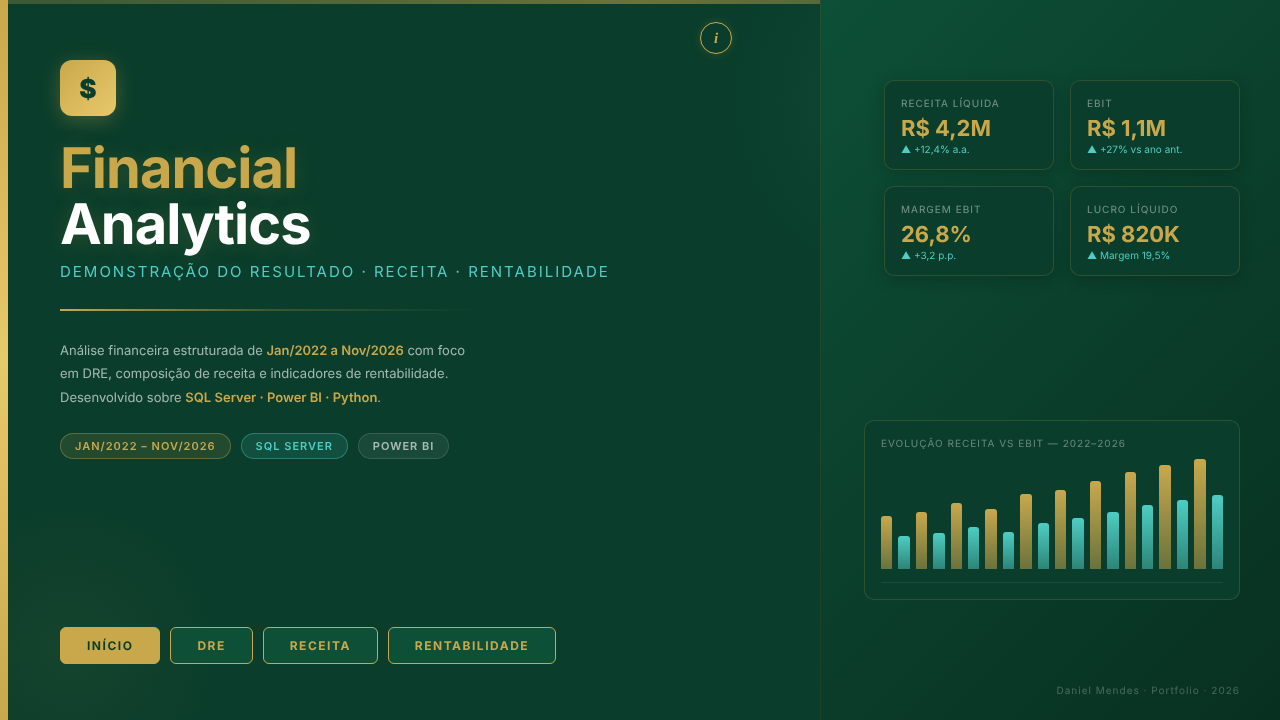

This screenshot's page, from the dashboard's own definition file:
{"tool":"powerbi","page":{"name":"Início","canvas":[1920,1080],"ordinal":0},"visuals":[{"type":"actionButton","box":[94.7,942.7,140,43.2],"z":0},{"type":"actionButton","box":[259.3,942.7,113.2,43.2],"z":1000},{"type":"actionButton","box":[401.4,942.7,158.5,43.2],"z":2000},{"type":"actionButton","box":[588.7,942.7,234.6,43.2],"z":3000},{"type":"actionButton","box":[1051.8,28.8,45.3,49.4],"z":4000}]}

Visuals, with their boxes in screenshot pixels (x1, y1, x2, y2), scaled from the page's 1920x1080 canvas onto the 1280x720 screenshot:
actionButton: x1=63 y1=628 x2=156 y2=657
actionButton: x1=173 y1=628 x2=248 y2=657
actionButton: x1=268 y1=628 x2=373 y2=657
actionButton: x1=392 y1=628 x2=549 y2=657
actionButton: x1=701 y1=19 x2=731 y2=52
